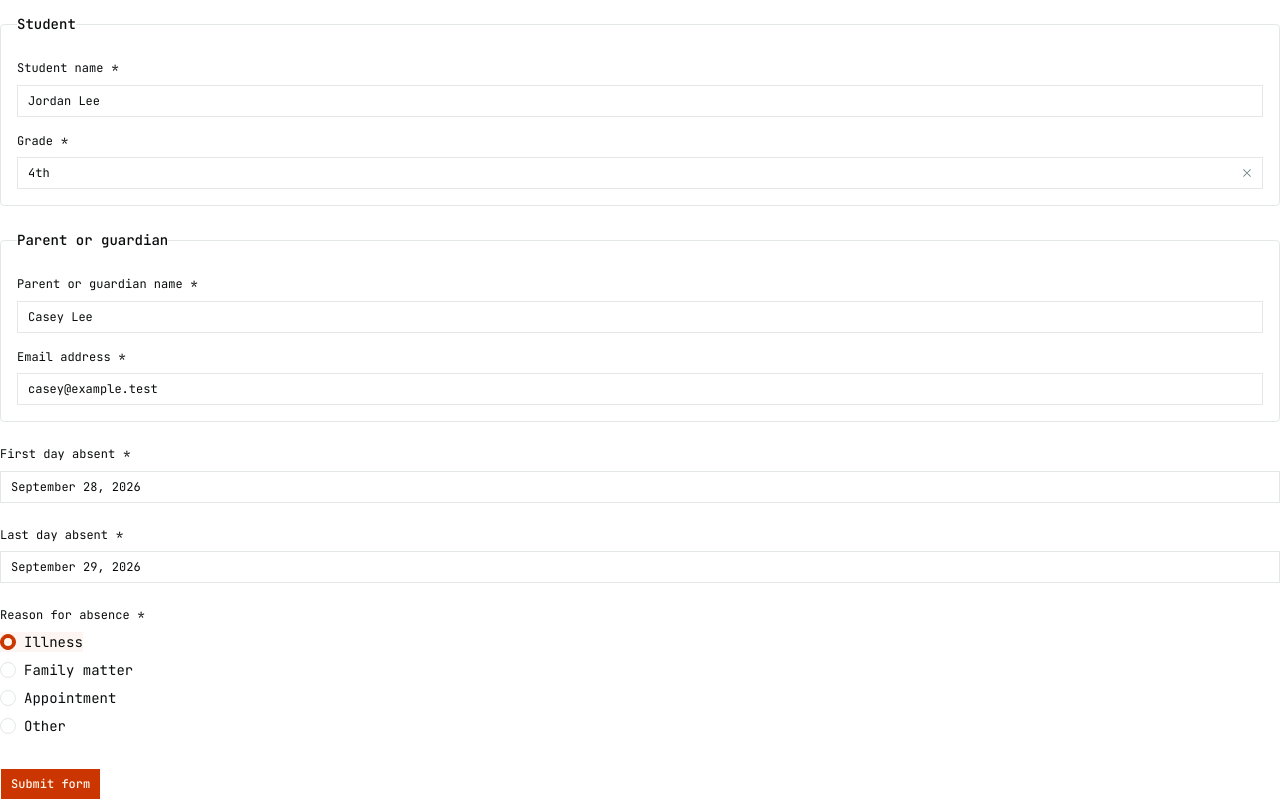
Test case: #DynamicForm › shows a server_error result without clearing answers
(page scrolled)
What coordinates should you click on to do the following:
click the button "Submit form"
I would click on:
 (51, 784)
Its box is [0,768,101,799].
(page scrolled)
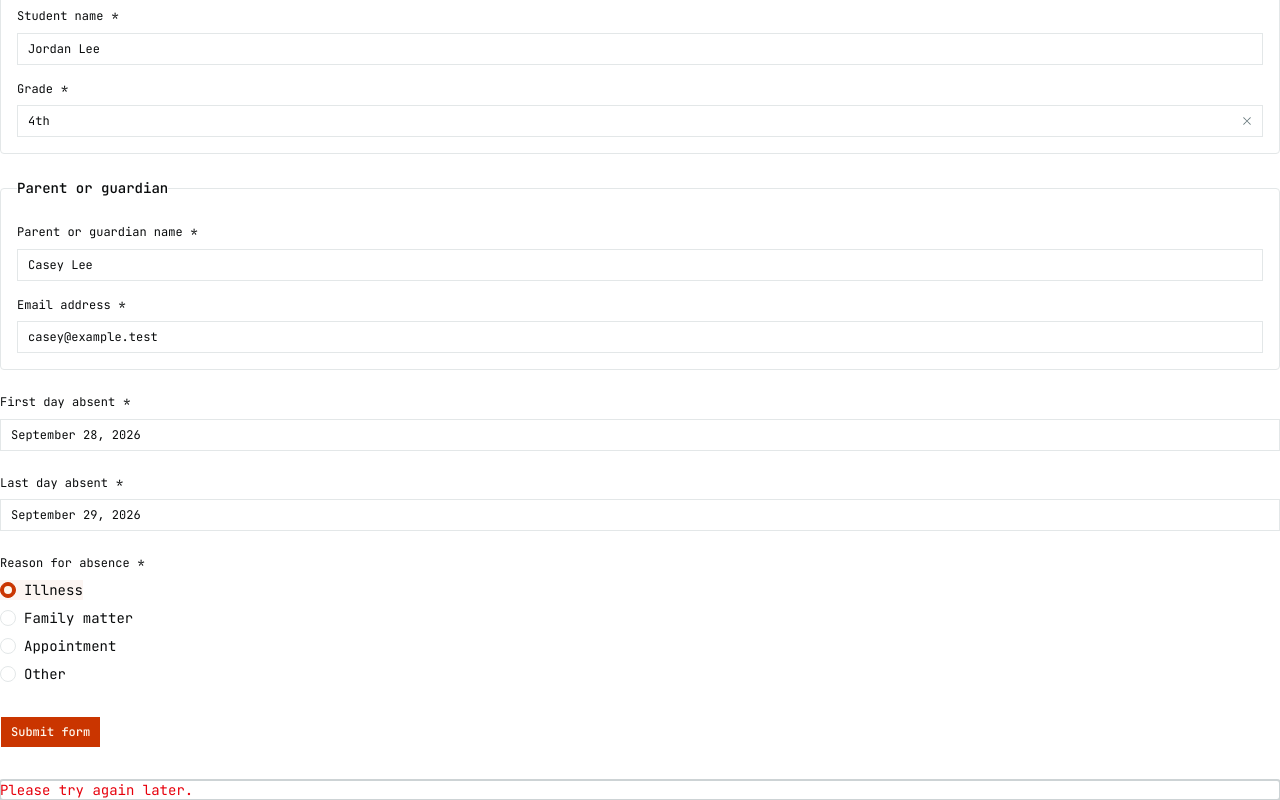
Expected: the field labelled "Student name *" holds "Jordan Lee", [17,32,1263,64]
Now the message reads "Please try again later.", box [0,780,193,798]
